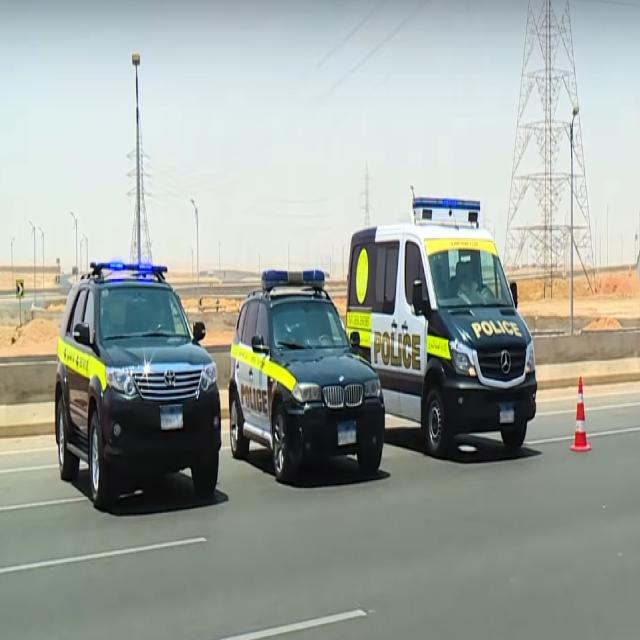Police-car: (344, 185, 537, 456), (53, 258, 222, 510), (228, 266, 385, 484)
